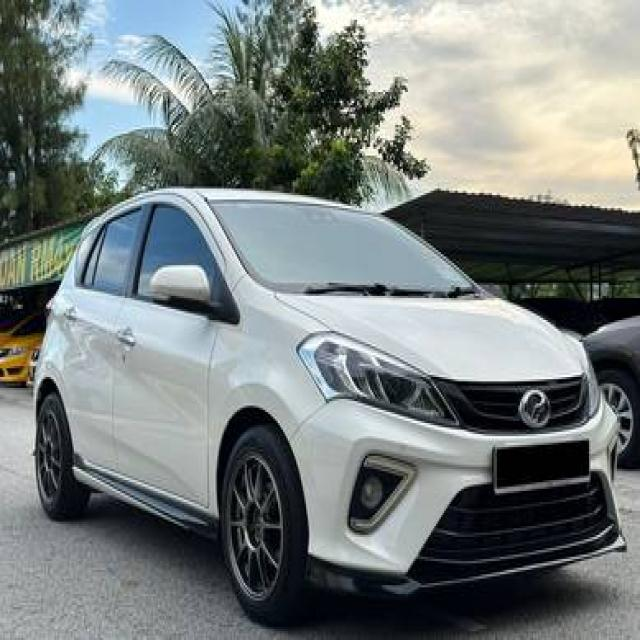PeroduaMyvi: (29, 182, 626, 625)
